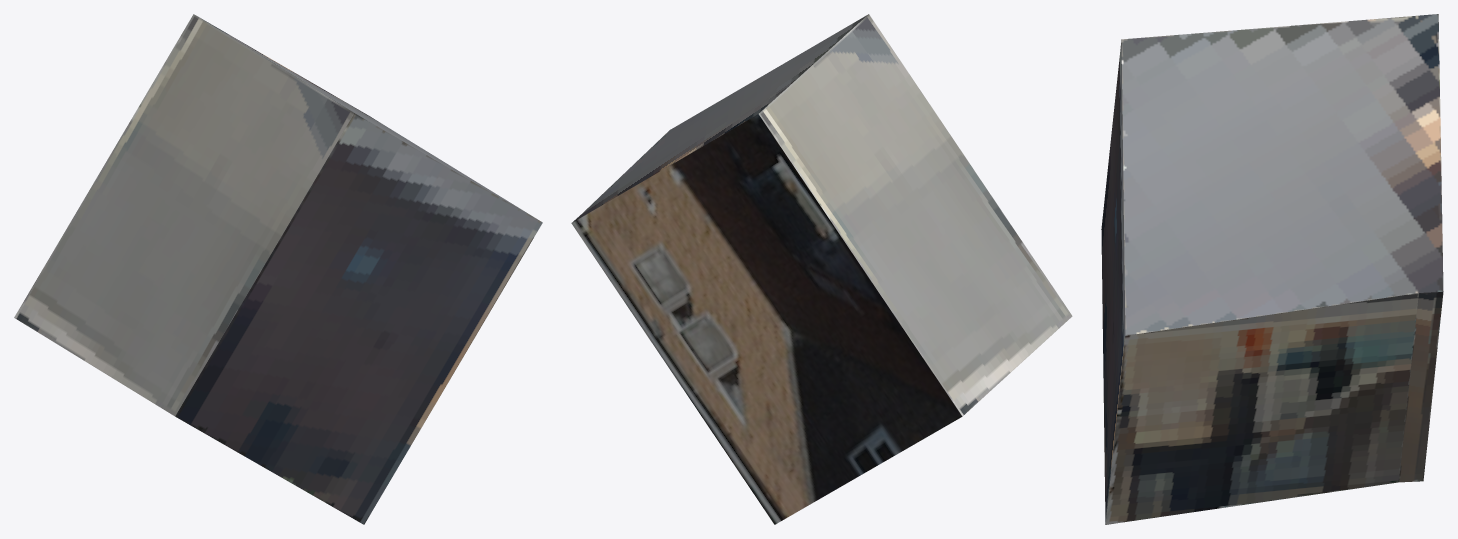
3 renders of one model, left to right at view 1: azimuth 30°, elevation 25°; view 2: azimuth 150°, elevation 25°; view 3: azimuth 270°, elevation 25°, orthographic. The views are drawn at different scales.
Visible parts, largest first — view 1: BAG_0599100000690499 (×2); view 2: BAG_0599100000690499 (×3); view 3: BAG_0599100000690499.
Boxes of the visible parts, left/top/right/bottom form: BAG_0599100000690499 (×2): left=14, top=14, right=542, bottom=524; BAG_0599100000690499 (×3): left=571, top=14, right=1072, bottom=524; BAG_0599100000690499: left=1101, top=14, right=1443, bottom=524.
Size of the model in its own units: 11.02 by 10.8 by 6.78.
2 materials, 2 textured.
